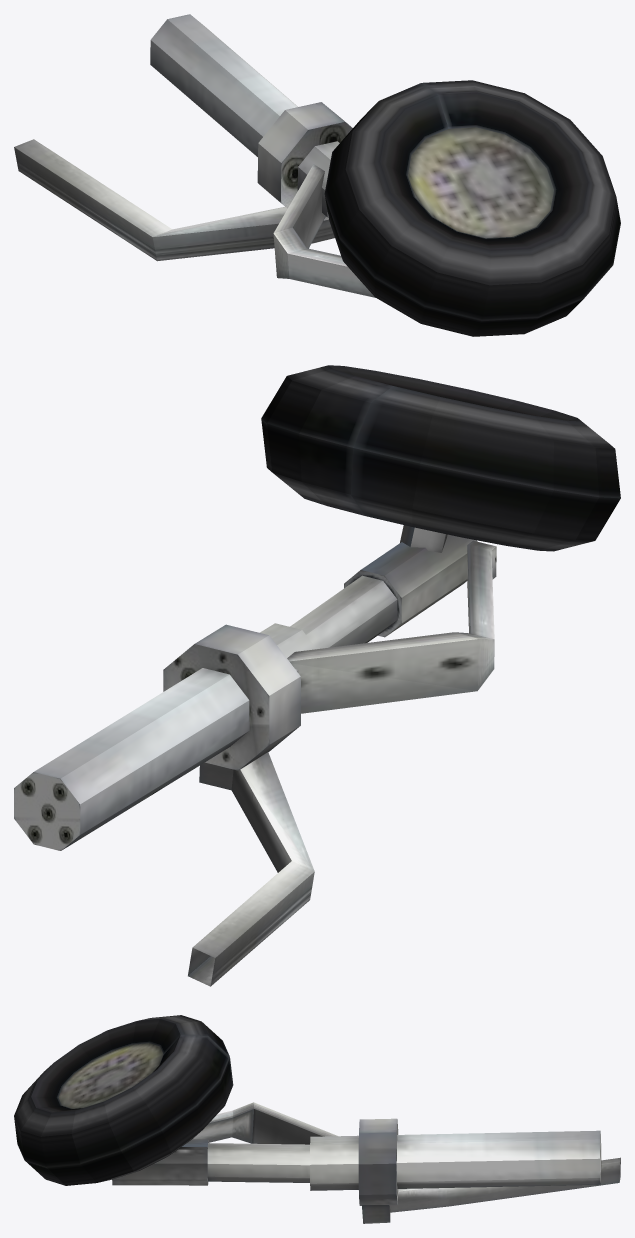
Rendered from trainArB.fbx.
3 views of the same model, one above another, from view 1: azimuth 30°, elevation 25°; view 2: azimuth 150°, elevation 25°; view 3: azimuth 270°, elevation 25° (orthographic). The views are drawn at different scales.
Visible parts, largest first — view 1: ShapeIndexedFaceSet; view 2: ShapeIndexedFaceSet; view 3: ShapeIndexedFaceSet.
Part boxes in pixels (bbox=[...]): ShapeIndexedFaceSet: bbox=[14, 14, 620, 336]; ShapeIndexedFaceSet: bbox=[14, 365, 620, 986]; ShapeIndexedFaceSet: bbox=[14, 1015, 620, 1223].
Bounding box in the file's own units: 0.7105 × 0.6778 × 1.8.
